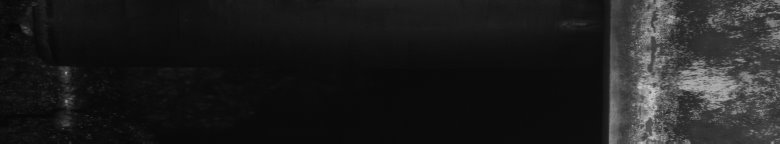kb: (625, 4, 776, 136)
